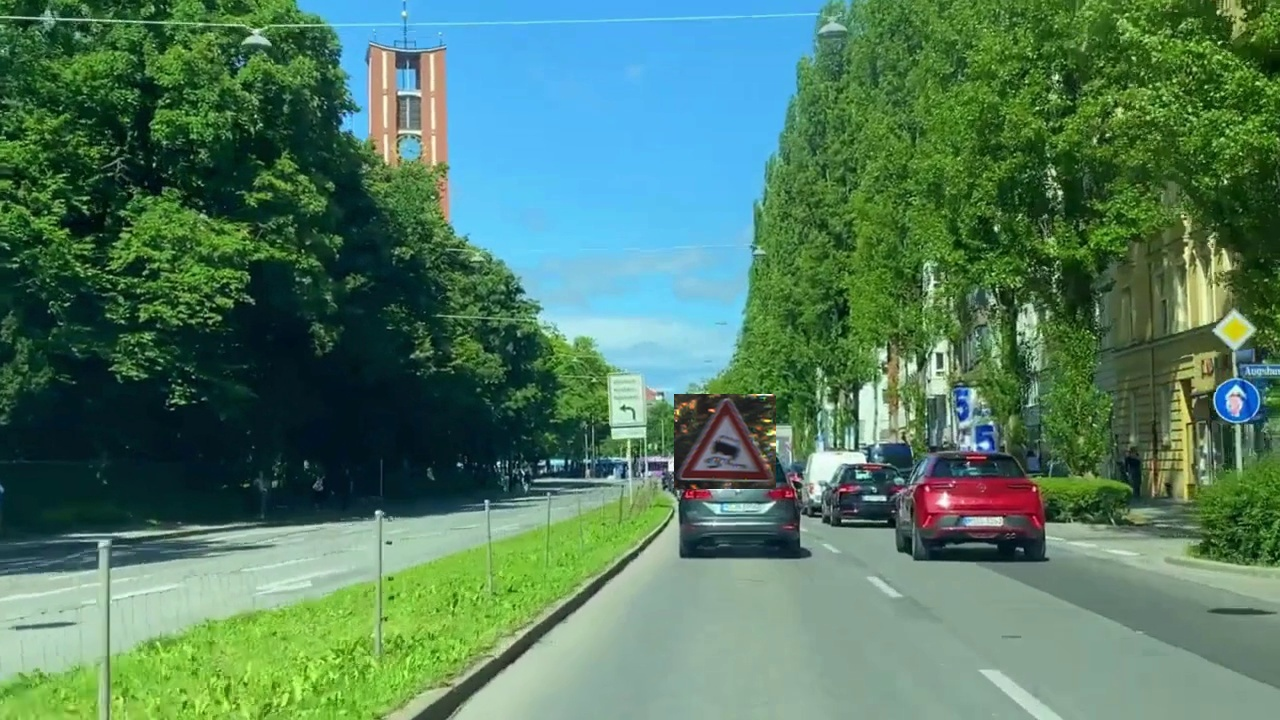Slippery: (674, 394, 776, 489)
